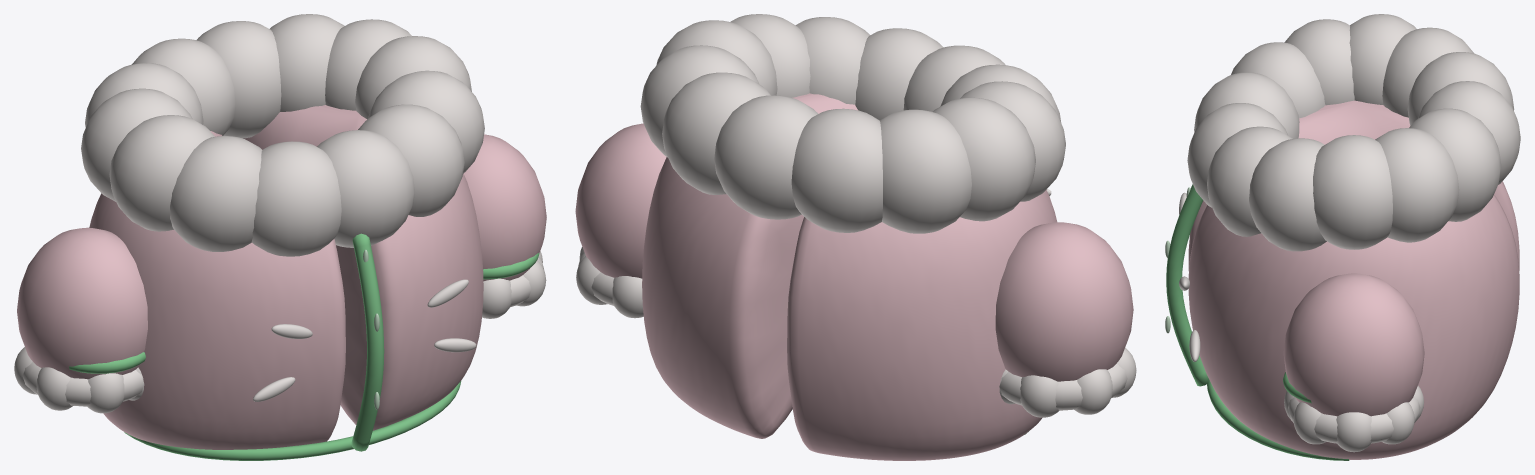
The model's file is armor_fluffvest.glb.
3 views of the same model, side by side, from view 1: azimuth 30°, elevation 25°; view 2: azimuth 150°, elevation 25°; view 3: azimuth 270°, elevation 25° (orthographic). The views are drawn at different scales.
Visible parts, largest first — view 1: fluffy_left-panel, slime_goo_binding, slime_goo_binding.001; view 2: fluffy_left-panel, slime_goo_binding, slime_goo_binding.001; view 3: fluffy_left-panel, slime_goo_binding.001.
Boxes of the visible parts, x1=… form: fluffy_left-panel: x1=81, y1=14, x2=484, y2=460; slime_goo_binding: x1=14, y1=227, x2=147, y2=413; slime_goo_binding.001: x1=463, y1=134, x2=546, y2=318; fluffy_left-panel: x1=640, y1=14, x2=1065, y2=460; slime_goo_binding: x1=995, y1=222, x2=1136, y2=417; slime_goo_binding.001: x1=575, y1=123, x2=666, y2=318; fluffy_left-panel: x1=1165, y1=14, x2=1520, y2=460; slime_goo_binding.001: x1=1283, y1=273, x2=1424, y2=452.
Bounding box in the file's own units: 0.821 × 0.5022 × 0.5138.
